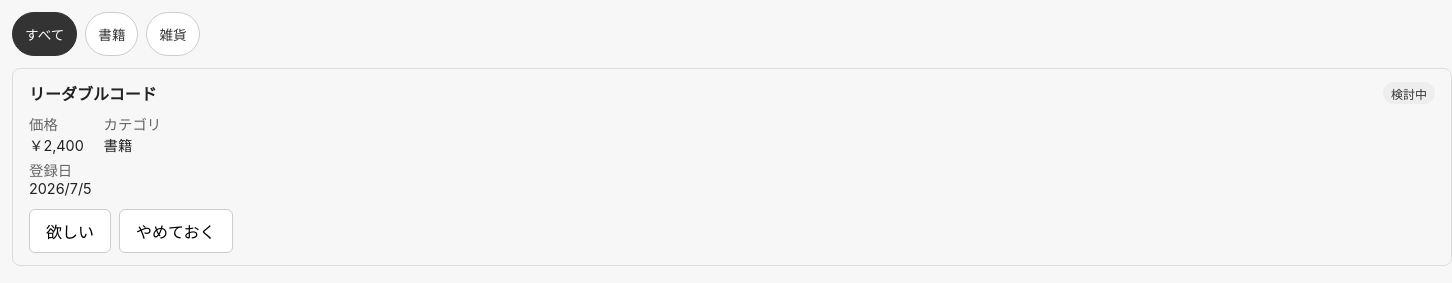
Scenario: WishItemList › 該当データがないカテゴリを選択すると絞り込み結果なしメッセージを表示する
expect the heading "リーダブルコード" is shown: met, box [29,81,157,105]
Click the button "雑貨": (173, 34) [146,12,200,56]
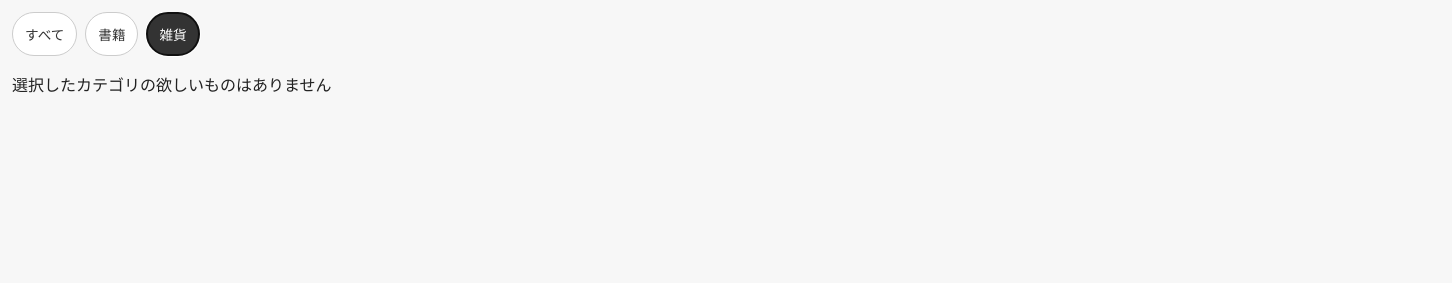
expect the text "選択したカテゴリの欲しいものはありません" is shown: met, box [12,75,332,95]
